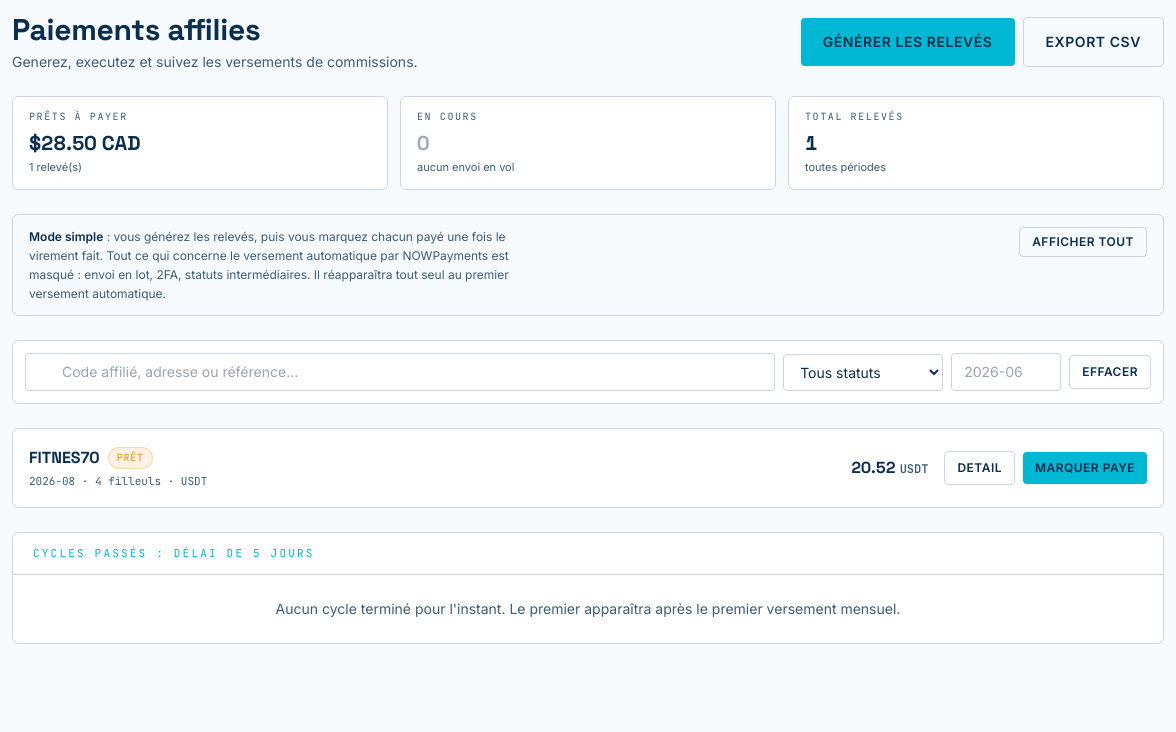
Test case: AdminPayouts › mode simple › laisse une sortie pour amorcer le premier versement automatique
This screenshot has width=1176, height=732.
Click the button with test id "payouts-mode-full": point(1083, 242) [1019,227,1147,257]
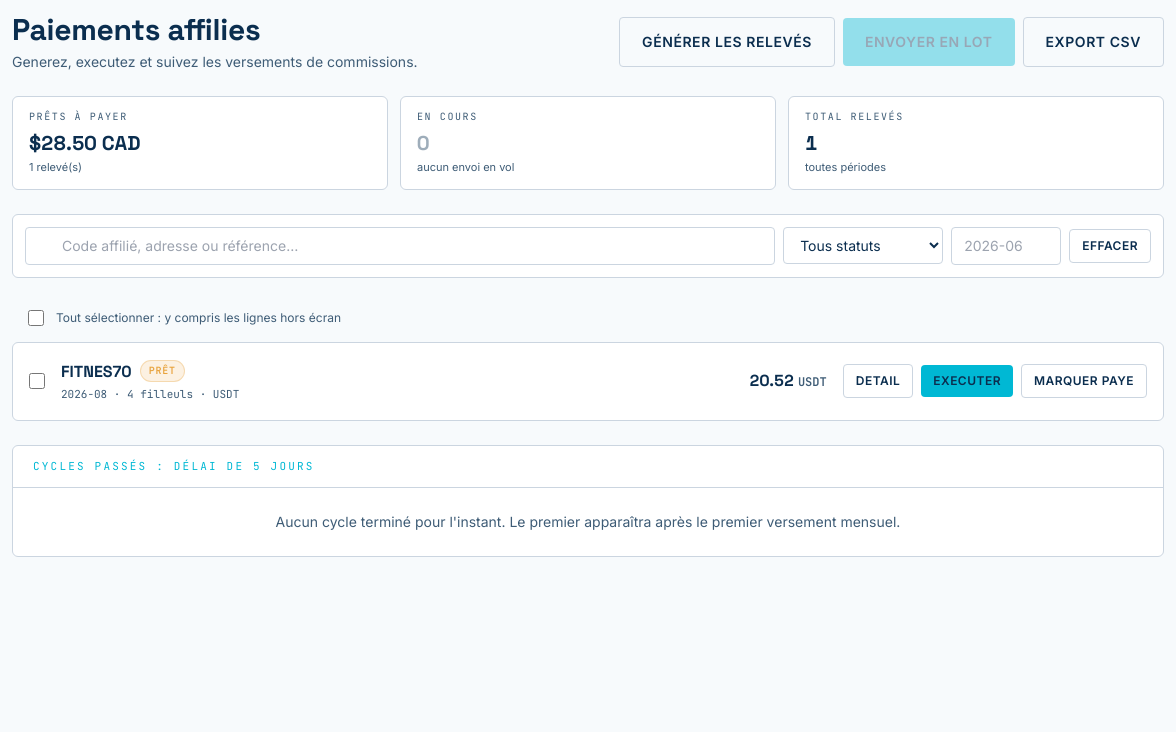
Check: the button with test id "execute-p-1" is shown, box [921,365,1013,397]
Check: the button with test id "batch-send" is shown, box [843,18,1015,66]
